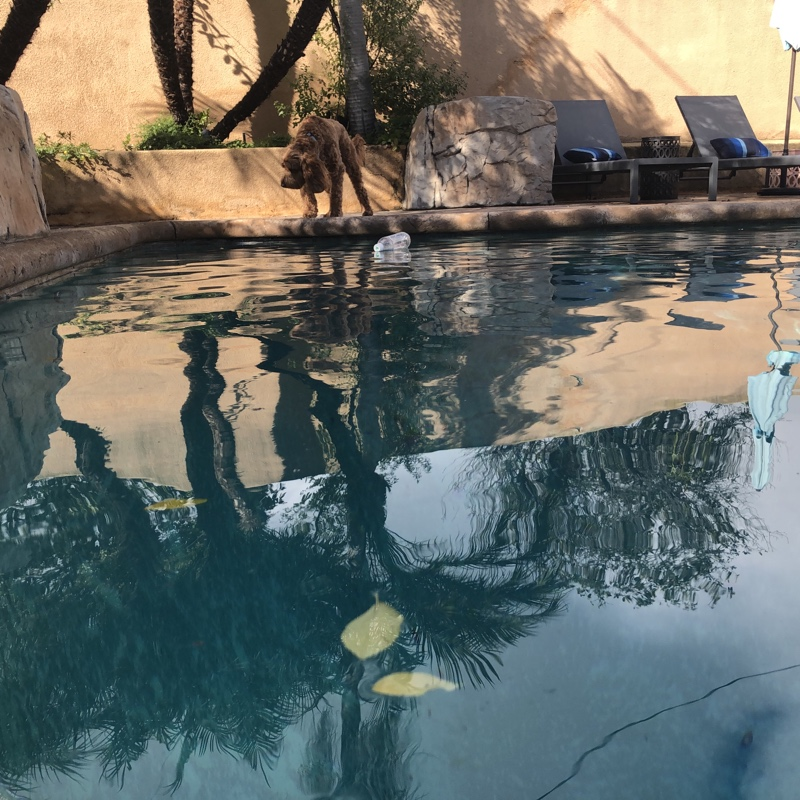Plastic Bottle: (369, 232, 415, 251)
